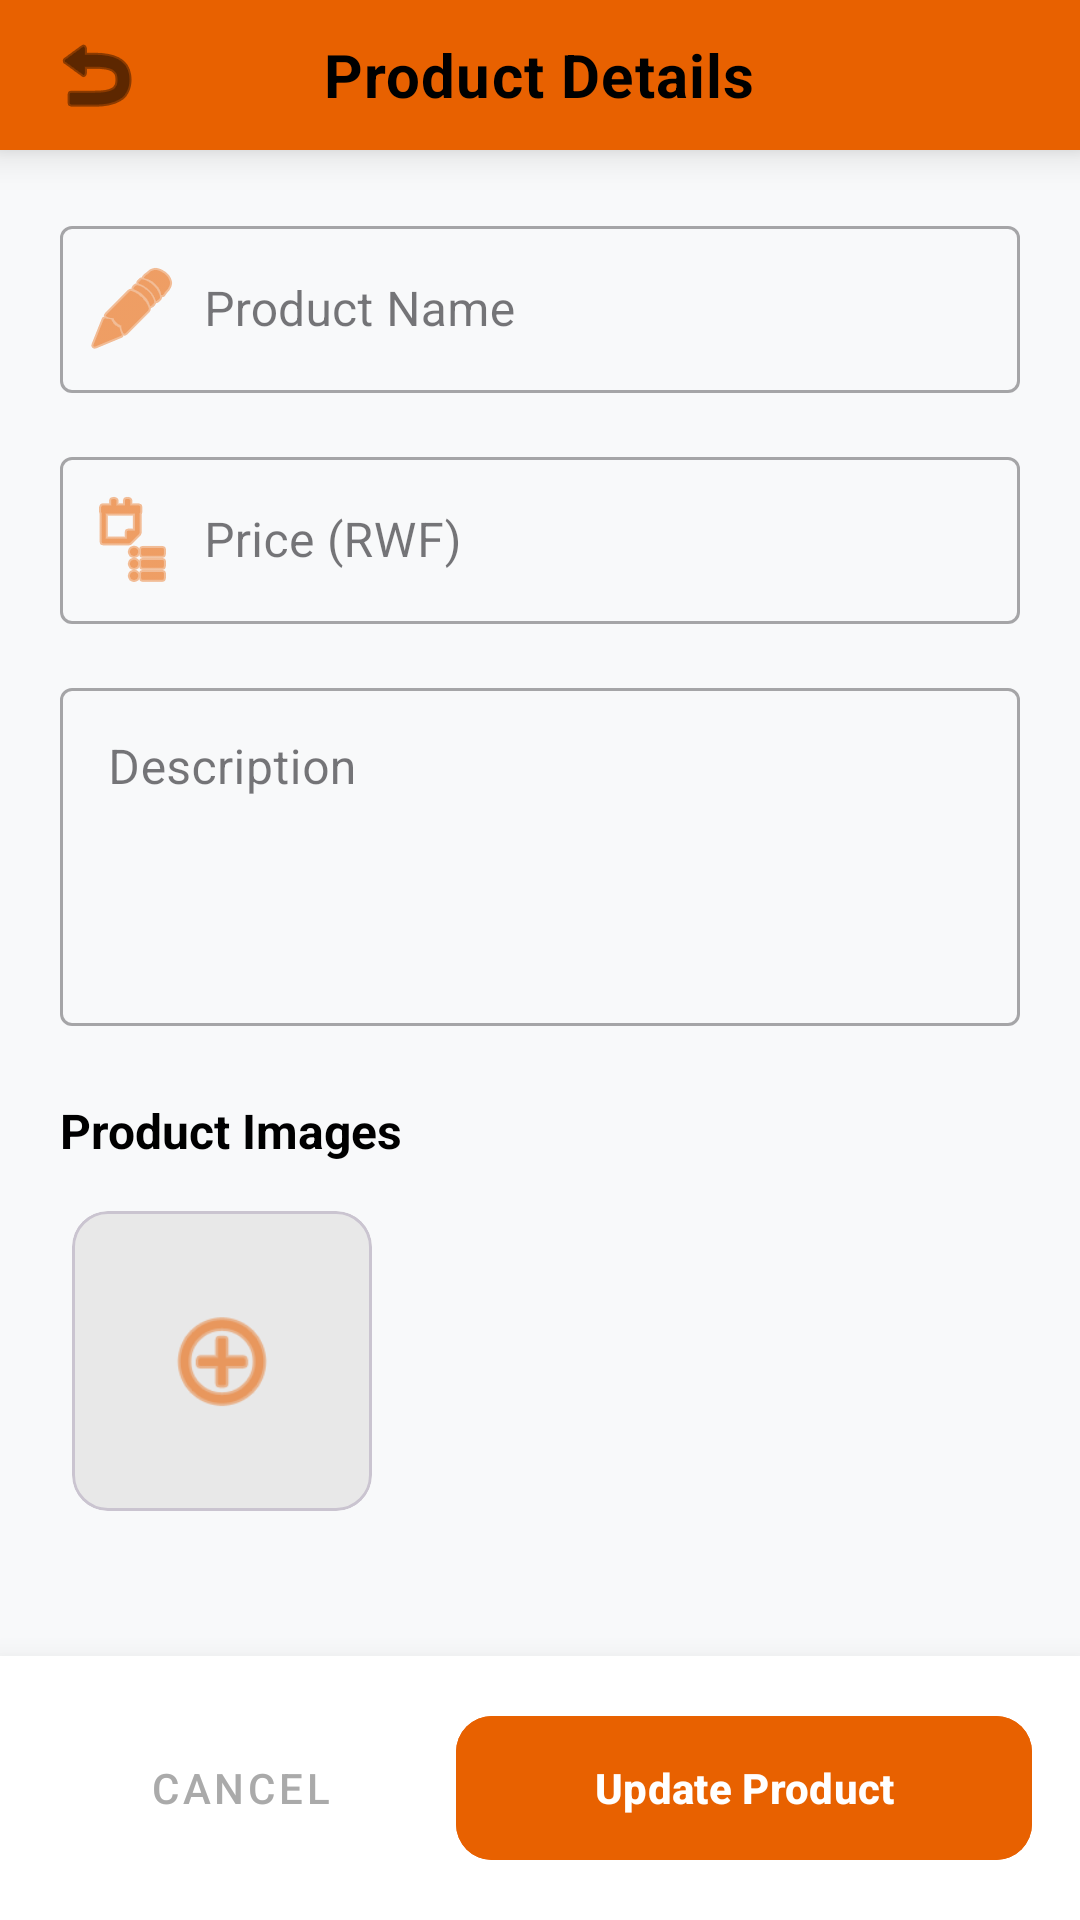

Locate icon controls on the screen. Image size 1080 × 1920, boxes as (x1, y1, x2, y2).
add: (177, 1317, 267, 1406)
Back: (63, 44, 132, 107)
